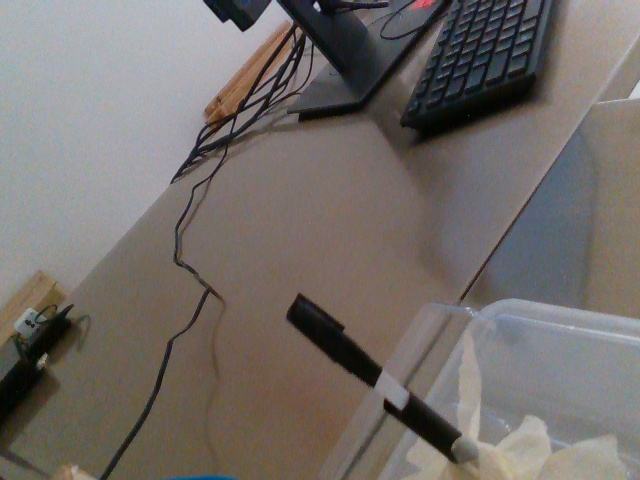test_strip: (283, 292, 410, 412)
